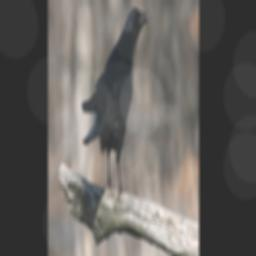Crow: (81, 1, 149, 206)
